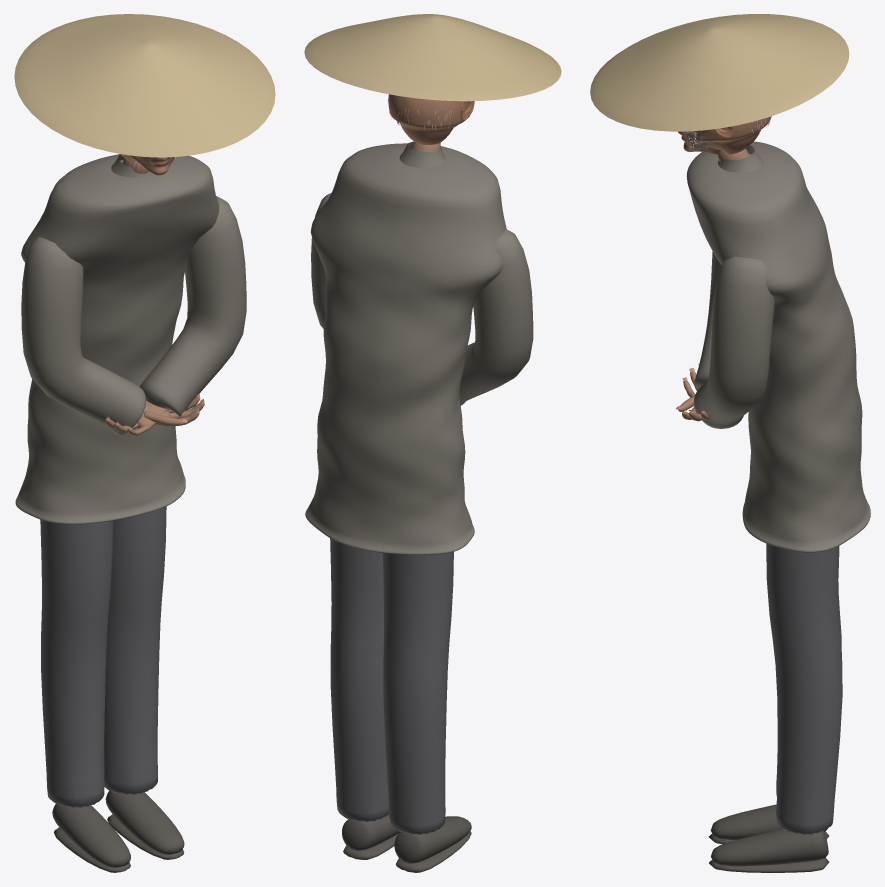
File: townsman.glb
3 renders of one model, left to right at view 1: azimuth 30°, elevation 25°; view 2: azimuth 150°, elevation 25°; view 3: azimuth 270°, elevation 25°, orthographic.
Visible parts, largest first — view 1: Torso, Hat, LegL, LegR, SleeveL, SleeveR, FootL, FootR, HandL, HandR, Head; view 2: Torso, LegL, Hat, LegR, SleeveL, Head, FootL, FootR, SleeveR, Collar; view 3: Torso, Hat, LegR, SleeveR, FootR, Head, FootL, SleeveL, Collar.
Boxes of the visible parts, box(x1,y1,x2,y2) form: Torso: box(15, 154, 219, 524); Hat: box(14, 14, 275, 157); LegL: box(40, 519, 113, 807); LegR: box(104, 506, 166, 794); SleeveL: box(21, 236, 146, 435); SleeveR: box(140, 196, 246, 416); FootL: box(52, 803, 130, 872); FootR: box(105, 790, 184, 859); HandL: box(140, 397, 204, 426); HandR: box(105, 400, 168, 435); Head: box(120, 154, 174, 175); Torso: box(305, 143, 506, 554); LegL: box(382, 552, 453, 834); Hat: box(304, 14, 561, 101); LegR: box(330, 538, 388, 822); SleeveL: box(459, 229, 533, 405); Head: box(388, 94, 469, 144); FootL: box(394, 816, 471, 872); FootR: box(342, 814, 400, 859); SleeveR: box(311, 193, 331, 328); Collar: box(399, 141, 445, 167); Torso: box(686, 141, 870, 552); Hat: box(590, 14, 849, 131); LegR: box(766, 543, 842, 834); SleeveR: box(693, 256, 774, 428); FootR: box(709, 829, 829, 872); Head: box(678, 116, 771, 154); FootL: box(708, 804, 828, 844); SleeveL: box(694, 251, 721, 389); Collar: box(718, 145, 763, 172).
Bounding box in the file's own units: 0.4785 × 1.66 × 0.5113.
Materials: 14 (2 with a texture image).
